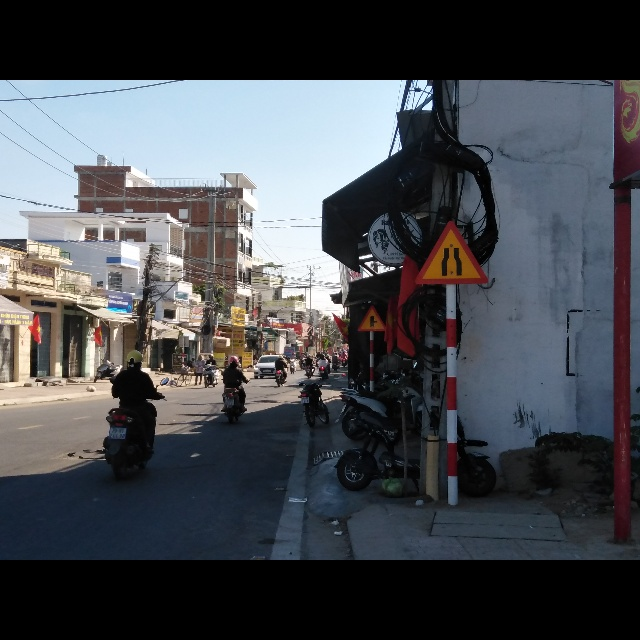Giao nhau với đường không ưu tiên: (356, 304, 388, 332)
Đường bị hẹp cả hai bên: (416, 219, 491, 286)
